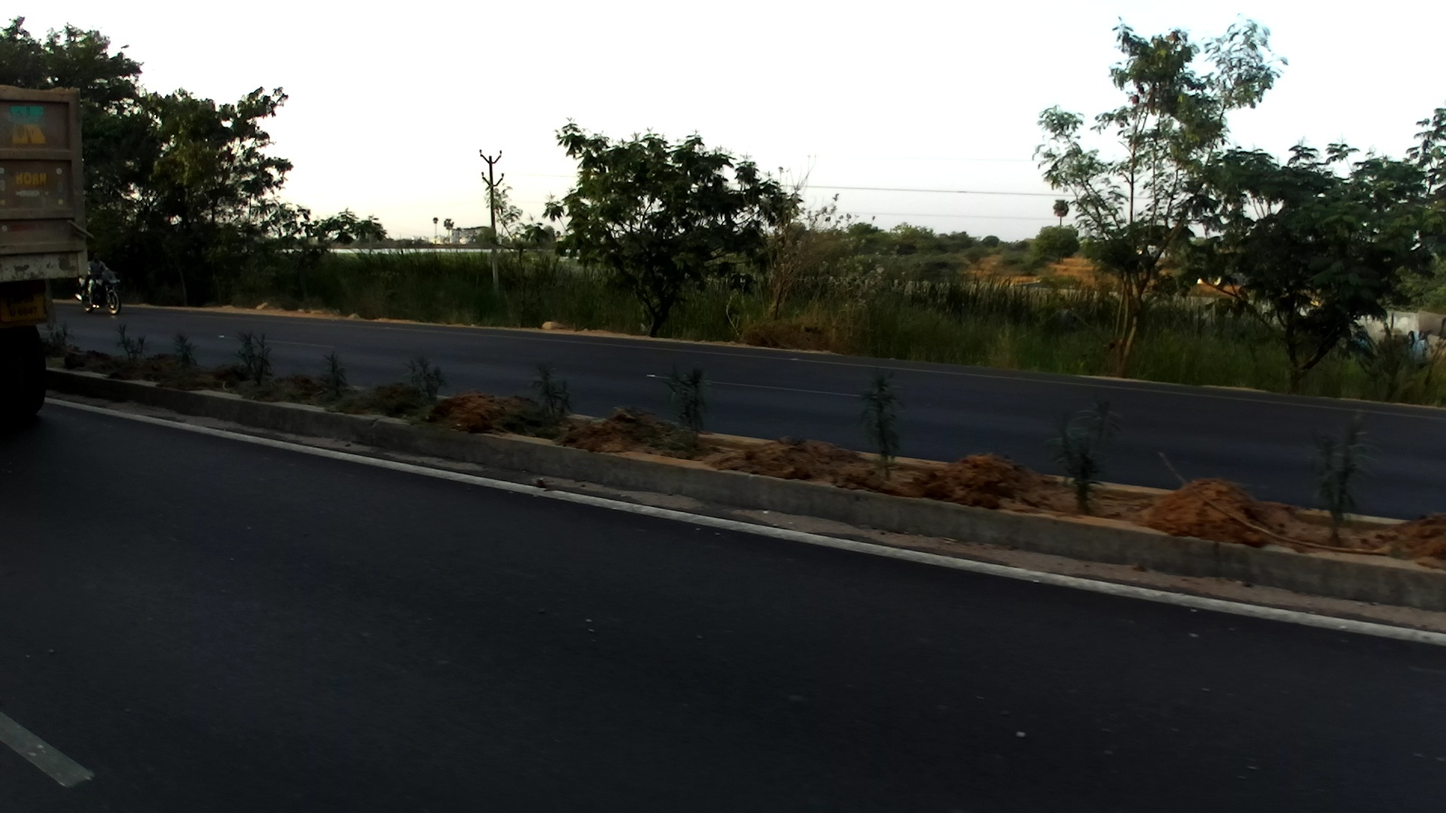motorcycle: (76, 269, 124, 312)
rider: (80, 242, 108, 312)
truck: (2, 81, 95, 414)
